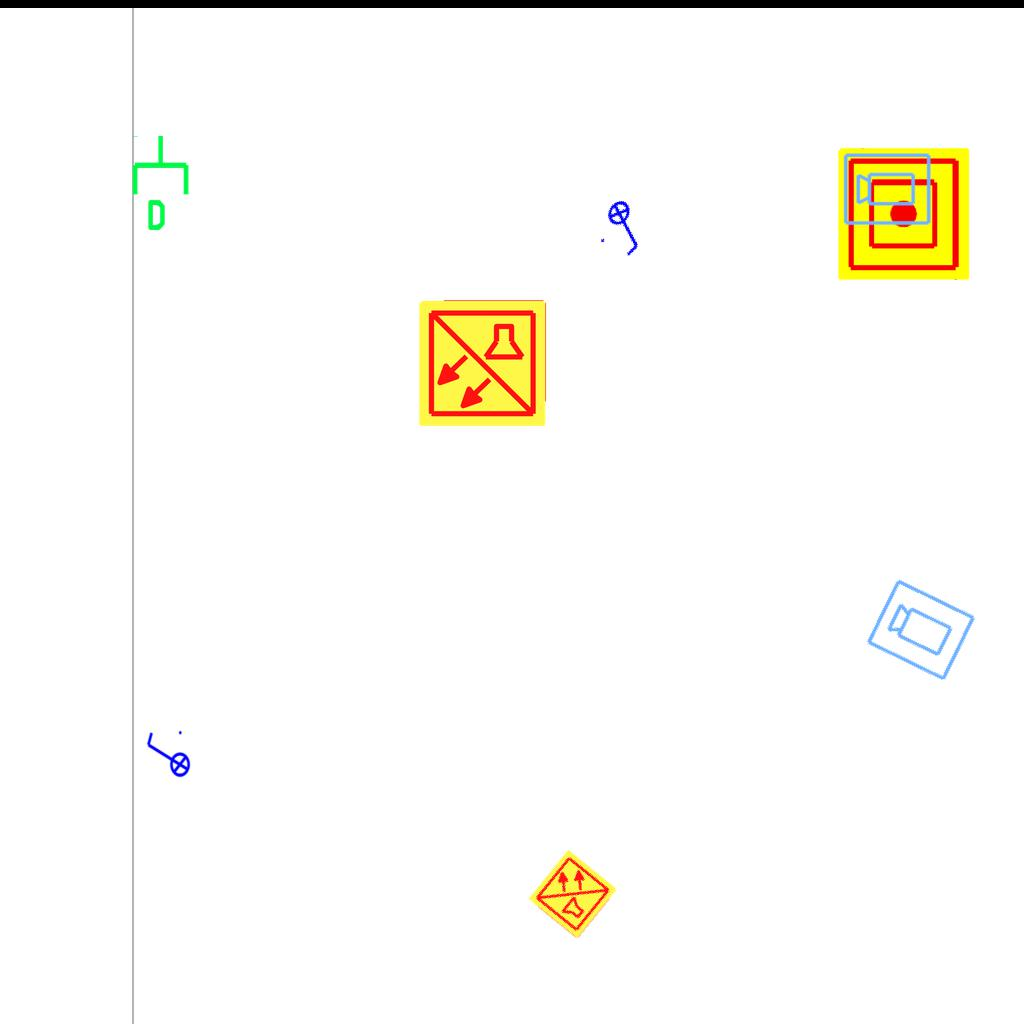Ausschalter_beleuchtet: (591, 190, 661, 264), (143, 728, 191, 784)
Datenanschluss_einfach: (128, 133, 197, 233)
KFO_Kamera_mit_Festobjektiv: (863, 574, 980, 685), (842, 150, 933, 227)
NAM-Nichtautomatischer_Melder: (838, 148, 970, 280)
OKW_Multisensormelder_(Kombination_optischer_Rauch-Kahlenmonoxid_Waerme-Melder): (416, 297, 548, 429), (526, 847, 620, 941)
